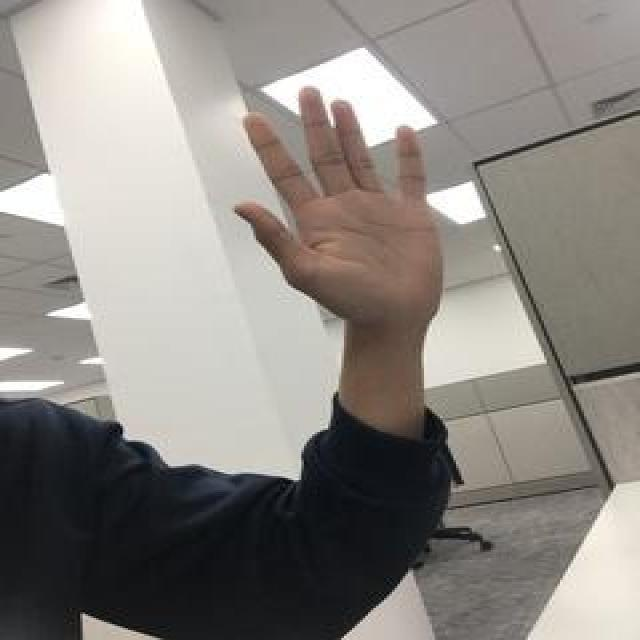hand: (229, 82, 448, 328)
